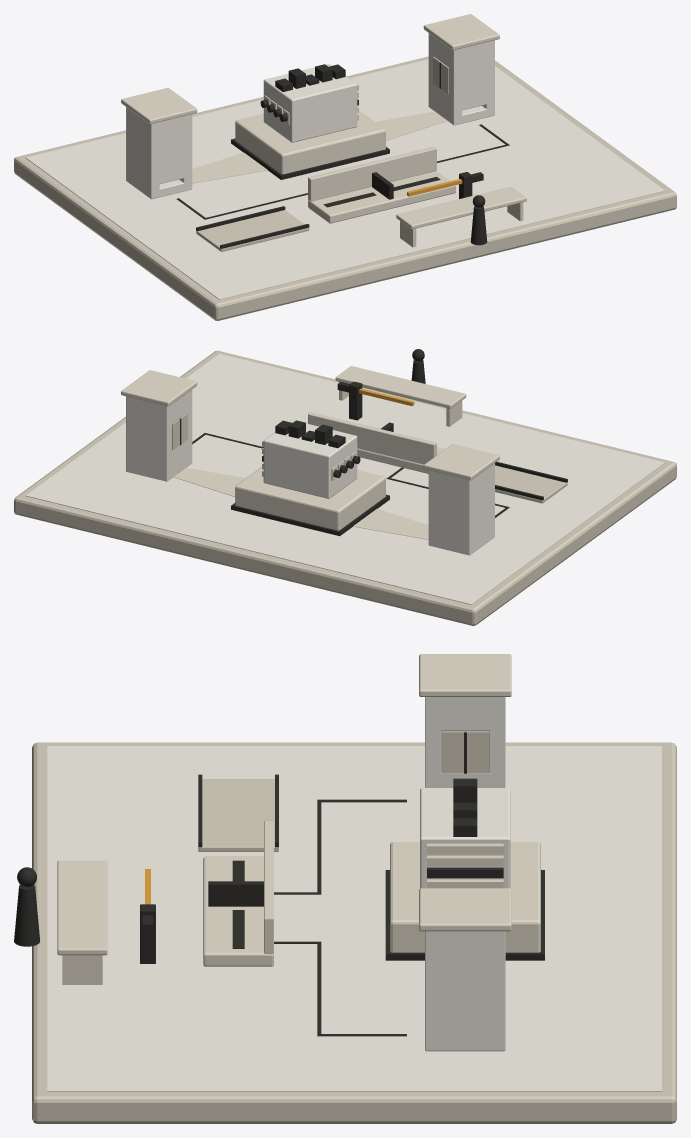
3 renders of one model, top to bottom at view 1: azimuth 30°, elevation 25°; view 2: azimuth 150°, elevation 25°; view 3: azimuth 270°, elevation 25°, orthographic. The views are drawn at different scales.
Parts seen in each view (by area): view 1: Plinth_Top, Plinth, Booth_Compat_Shell, Pedestal, Snapshot_v1_Core, Booth_Migr_Shell, Cradle_Back, Cradle_Base, Stale_Tray, Desk, Booth_Compat_Roof, Booth_Migr_Roof (+4 smaller); view 2: Plinth_Top, Plinth, Booth_Compat_Shell, Pedestal, Snapshot_v1_Core, Booth_Migr_Shell, Cradle_Back, Desk, Booth_Compat_Roof, Booth_Migr_Roof, Stale_Tray, Booth_Compat_Sightline (+4 smaller); view 3: Plinth_Top, Plinth, Booth_Migr_Shell, Pedestal, Booth_Compat_Shell, Snapshot_v1_Core, Stale_Tray, Cradle_Base, Desk, Booth_Migr_Roof, Booth_Compat_Roof, Booth_Compat_Glass (+10 smaller).
Boxes of the visible parts, x1,y1,x2,y2 form: Plinth_Top: (25,59,664,299); Plinth: (14,56,676,320); Booth_Compat_Shell: (126,107,192,199); Pedestal: (235,110,385,174); Snapshot_v1_Core: (263,64,357,142); Booth_Migr_Shell: (428,33,494,125); Cradle_Back: (308,146,436,201); Cradle_Base: (308,171,455,223); Stale_Tray: (196,210,309,251); Desk: (396,186,526,229); Booth_Compat_Roof: (121,88,197,124); Booth_Migr_Roof: (423,14,499,50); Plinth_Top: (26,353,665,604); Plinth: (14,350,676,625); Booth_Compat_Shell: (428,463,494,555); Pedestal: (235,467,385,530); Snapshot_v1_Core: (263,420,357,498); Booth_Migr_Shell: (126,389,192,481); Cradle_Back: (308,412,436,464); Desk: (335,366,466,408); Booth_Compat_Roof: (423,444,499,480); Booth_Migr_Roof: (121,370,197,406); Stale_Tray: (495,465,567,503); Booth_Compat_Sightline: (353,508,428,539); Plinth_Top: (47,746,661,1091); Plinth: (32,742,676,1123); Booth_Migr_Shell: (425,931,505,1051); Pedestal: (390,842,540,952); Booth_Compat_Shell: (425,697,505,787); Snapshot_v1_Core: (420,788,510,888); Stale_Tray: (198,779,278,851); Cradle_Base: (203,856,273,966); Desk: (57,860,107,955); Booth_Migr_Roof: (419,888,511,931); Booth_Compat_Roof: (419,654,511,696); Booth_Compat_Glass: (441,731,489,773).
Size of the model in its own units: 8.4 by 1.91 by 6.58.
